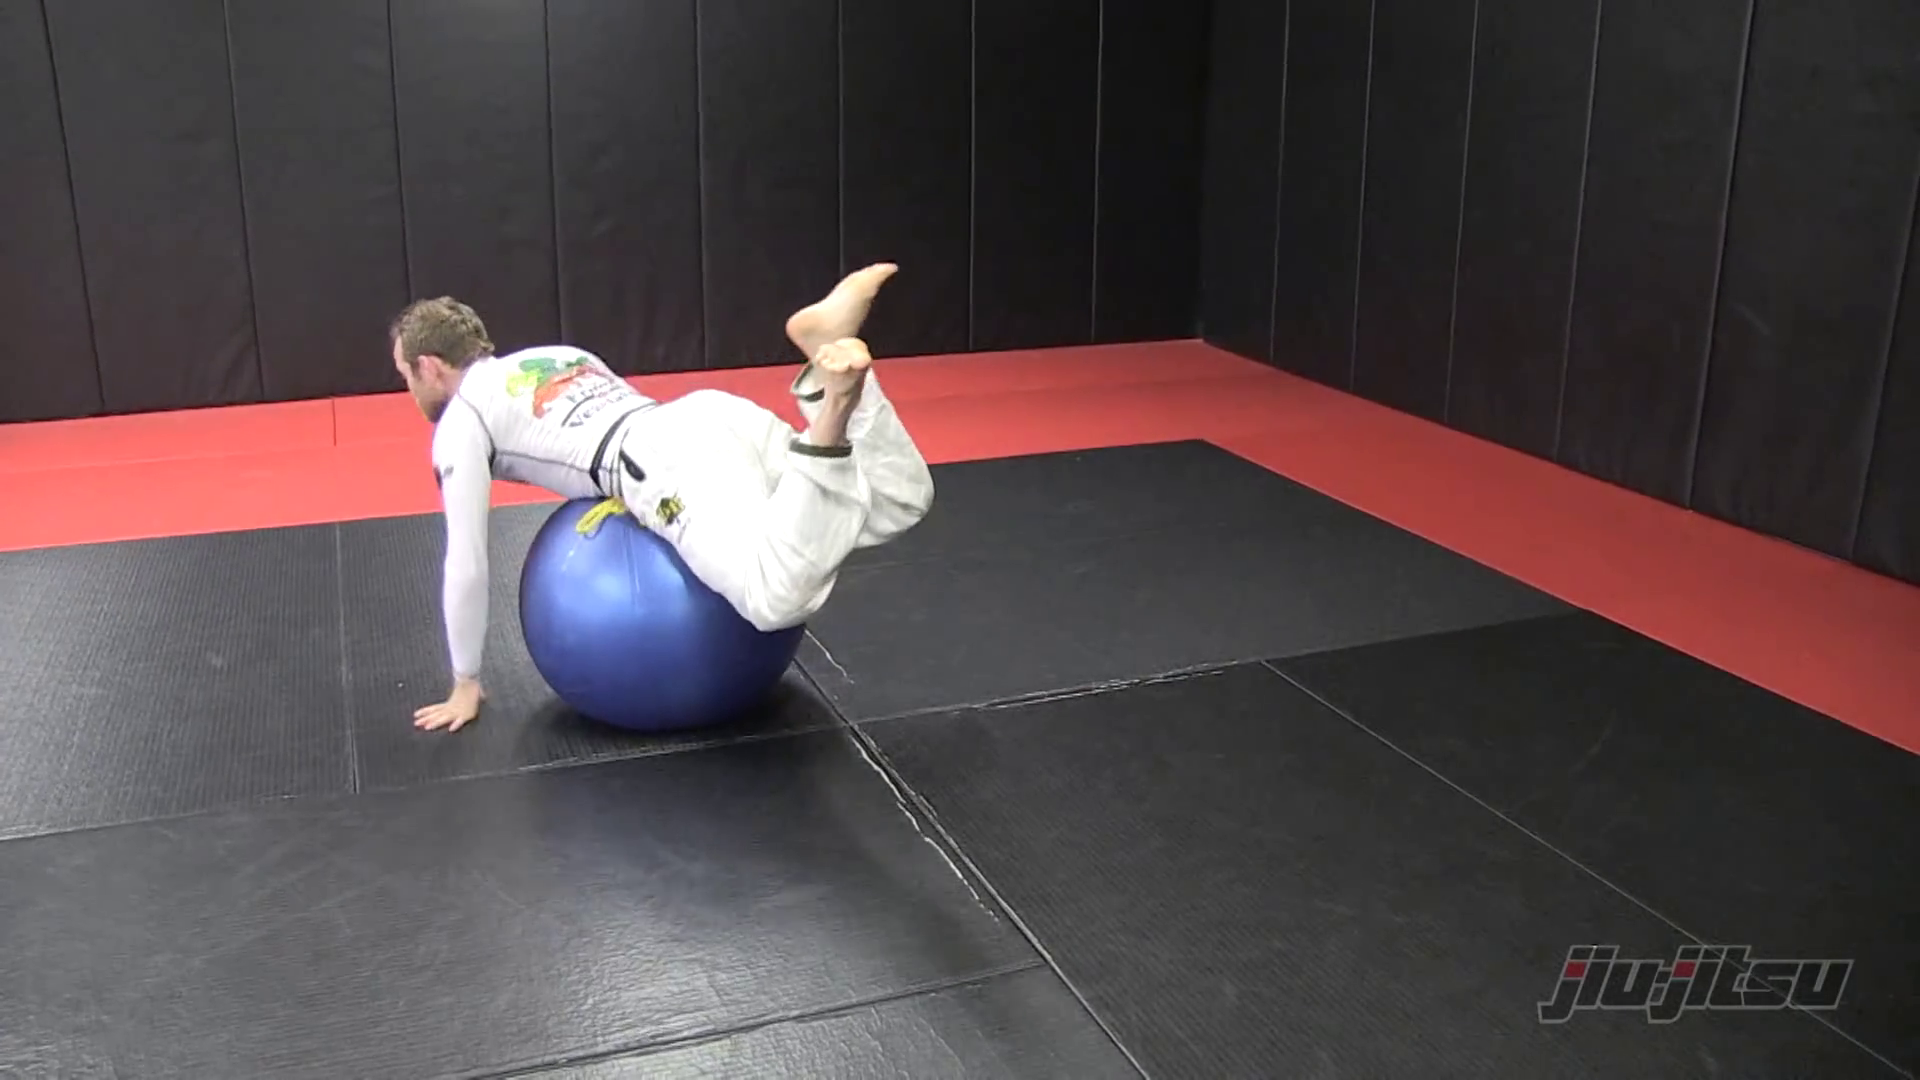yogaball: (508, 476, 837, 752)
